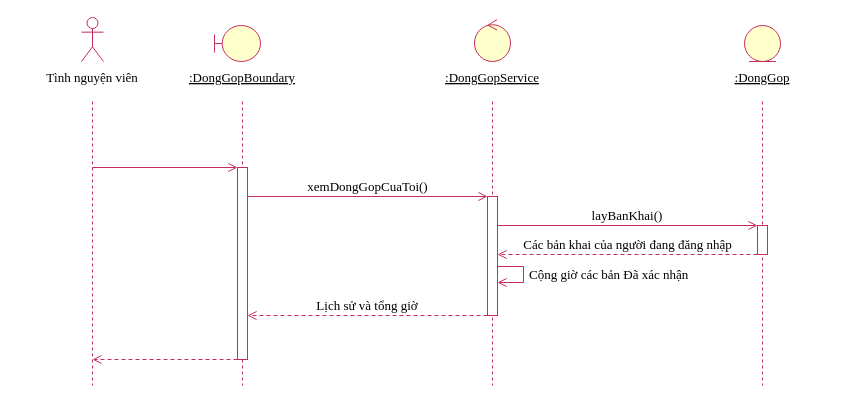
Some shapes in this 854 by 404 pixel diagram are drawn without their labels. The shapes that lost their labels are listed below. From the top down, each one's centre as x and y in pixels, then its label:
At [164,149]: "Chọn Lịch sử đóng góp".
At [165,341]: "Hiển thị lịch sử và tổng giờ".
